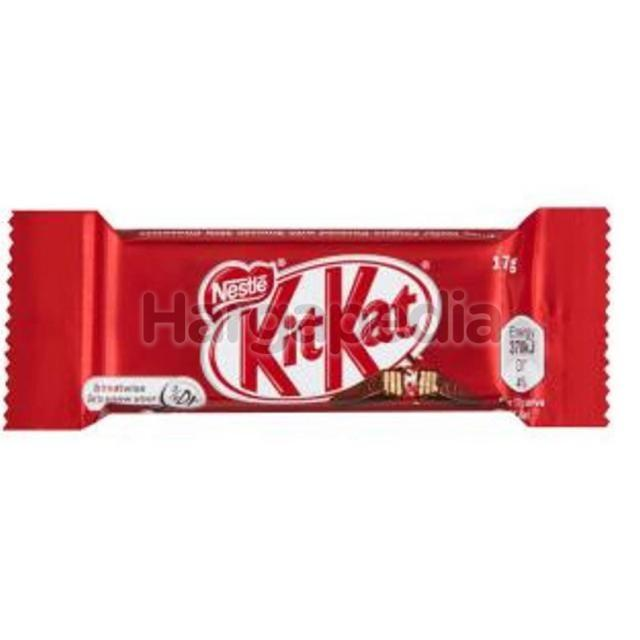kitkat_chocolate: (18, 205, 605, 438)
